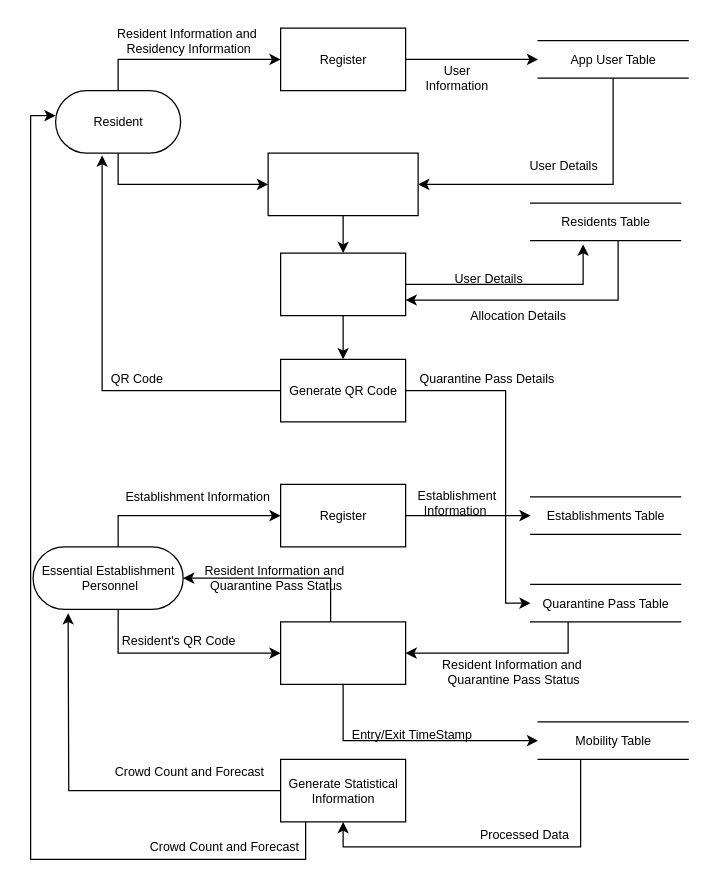
The diagram is 710 pixels wide and 891 high, and some of its shapes have lost their labels. The shapes that lost their labels are listed below. From the top down, each one's centre as x and y in pixels, then its label:
(x=342, y=184): Request Quarantine Pass
(x=342, y=284): Validate Allocation
(x=342, y=652): Scan QR code
